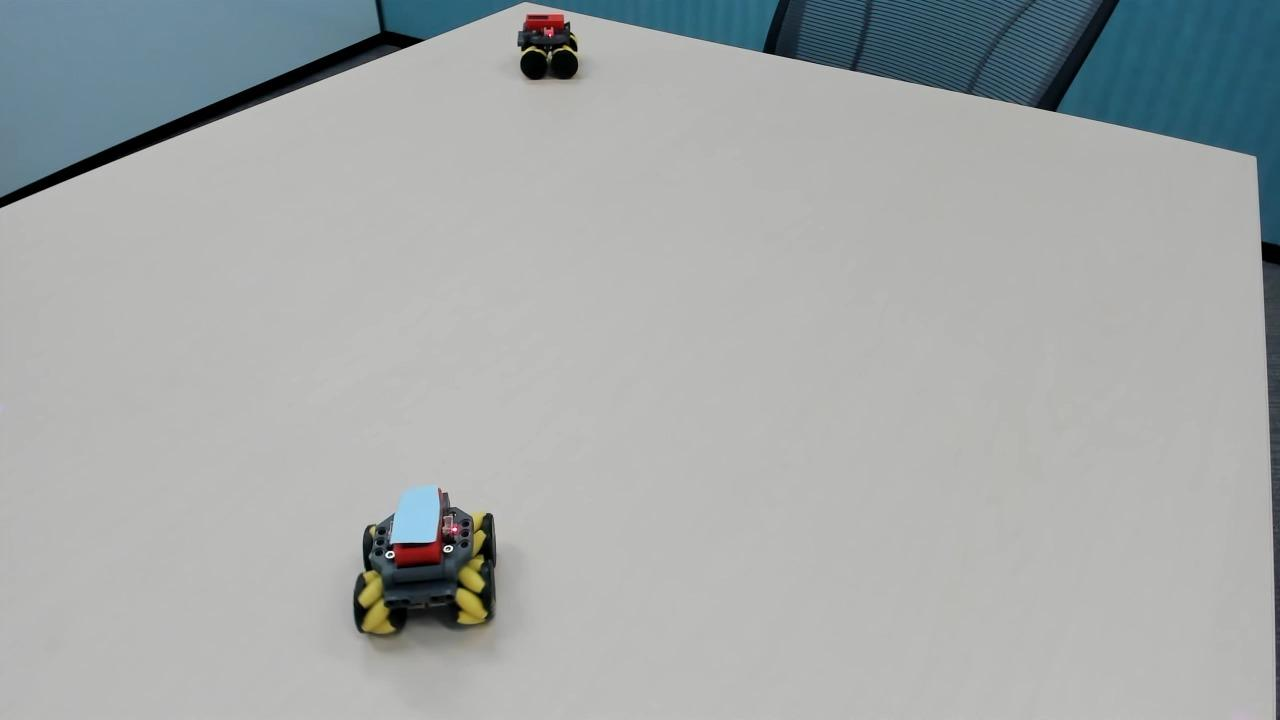B-Robot: (344, 469, 508, 650)
R-Robot: (501, 0, 599, 95)
